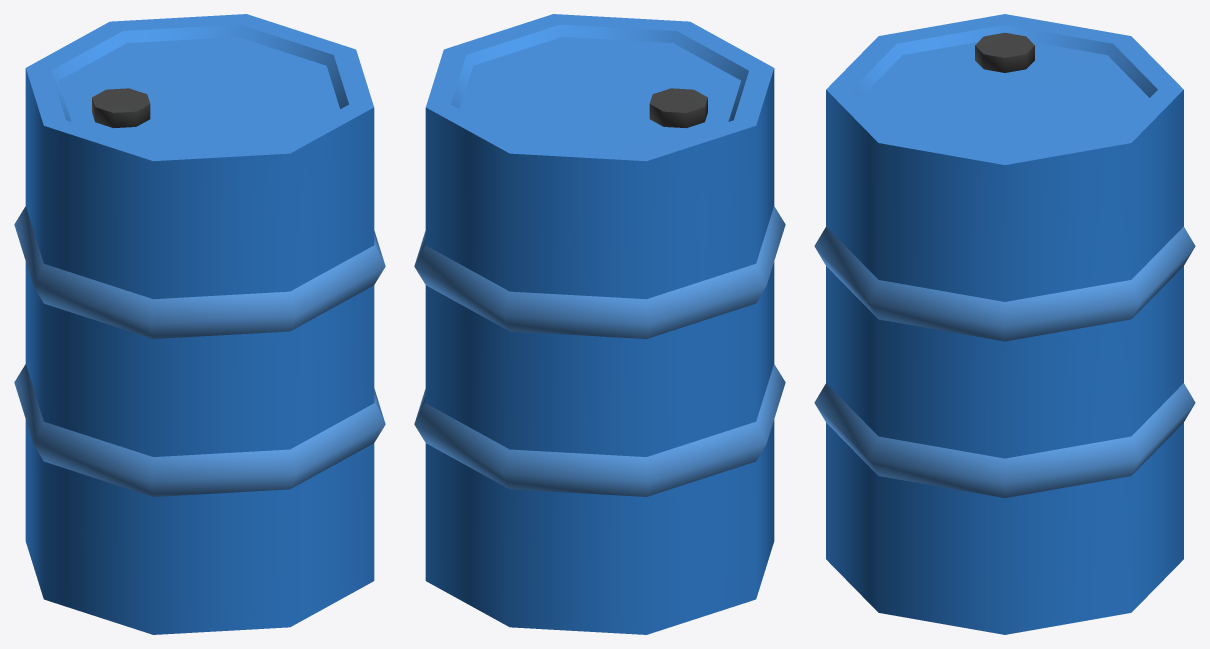
The model's file is barrel_001.glb.
3 views of the same model, side by side, from view 1: azimuth 30°, elevation 25°; view 2: azimuth 150°, elevation 25°; view 3: azimuth 270°, elevation 25° (orthographic).
Parts seen in each view (by area): view 1: barrel_001; view 2: barrel_001; view 3: barrel_001.
Part boxes in pixels (x1,y1,x2,y2): barrel_001: [14, 14, 385, 634]; barrel_001: [414, 14, 785, 634]; barrel_001: [814, 14, 1195, 634].
Size of the model in its own units: 0.6175 by 0.8504 by 0.6175.
Materials: 1 (1 with a texture image).
